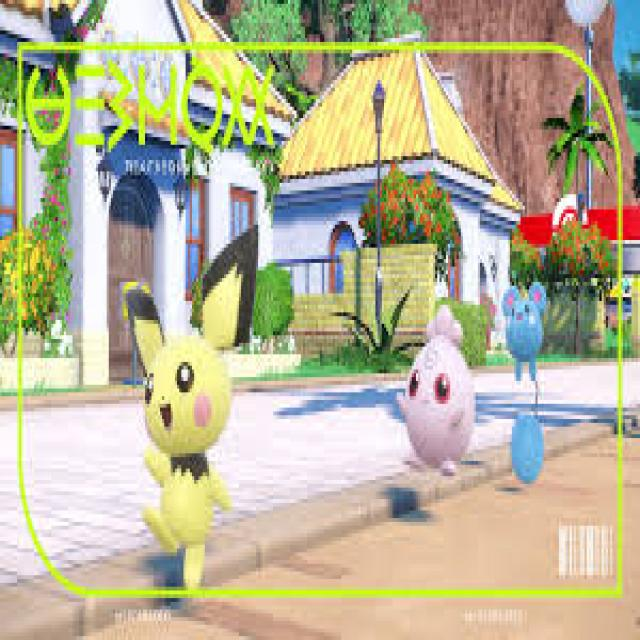pichu: (107, 213, 263, 609)
